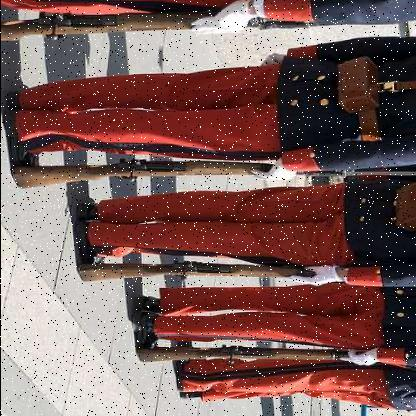rifle: (13, 153, 348, 207), (1, 8, 291, 54), (71, 260, 359, 295), (131, 345, 371, 376)
